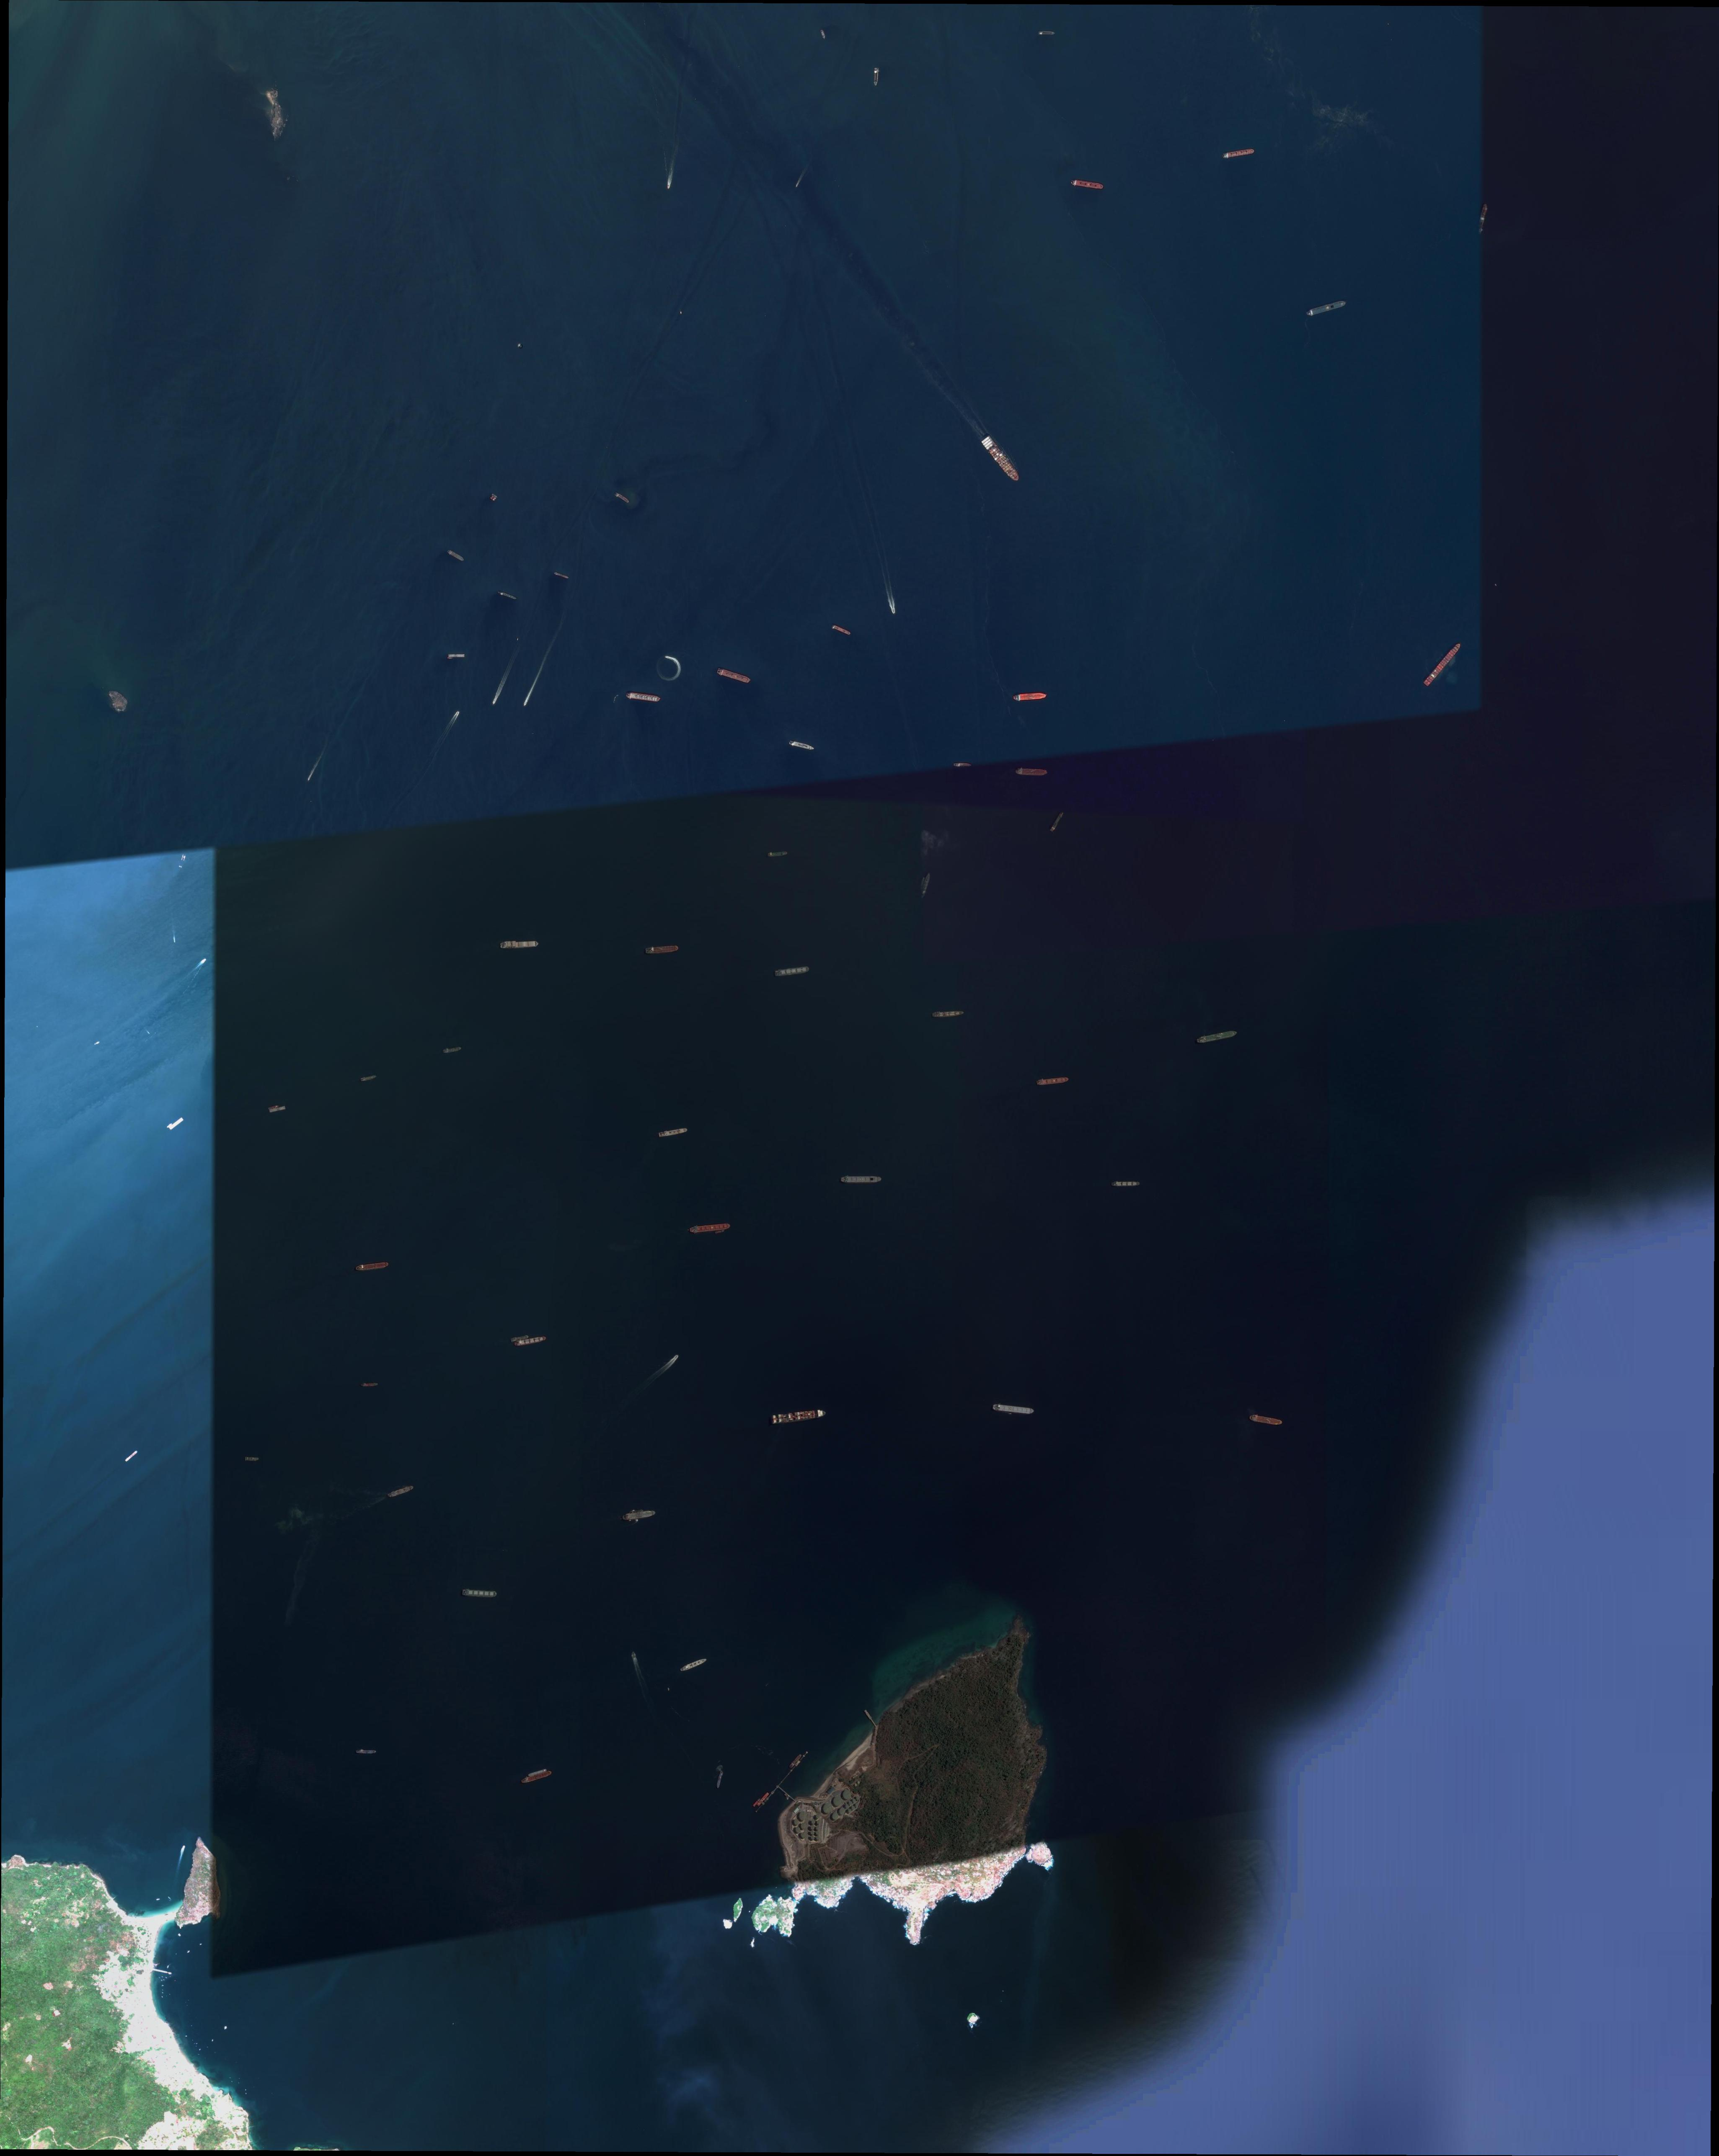harbor: (756, 1751, 828, 1826), (863, 1709, 873, 1720)
ship: (980, 434, 1022, 483), (1423, 642, 1463, 687), (771, 1410, 826, 1425), (1306, 300, 1348, 318), (1196, 1029, 1238, 1046), (716, 667, 752, 684), (993, 1404, 1035, 1416), (1248, 1413, 1284, 1427), (690, 1223, 731, 1234), (774, 965, 810, 978), (521, 1770, 552, 1784), (1222, 147, 1256, 160), (1070, 178, 1105, 190), (680, 1658, 707, 1673), (622, 1510, 657, 1522), (387, 1484, 414, 1499), (626, 692, 661, 703), (1013, 692, 1047, 703), (644, 945, 680, 955), (461, 1589, 497, 1599), (355, 1261, 389, 1271), (840, 1176, 882, 1184), (515, 1335, 547, 1346), (500, 940, 538, 949), (1477, 203, 1488, 234), (1037, 1077, 1070, 1087), (788, 739, 815, 751), (658, 1127, 688, 1138), (1049, 812, 1064, 833), (1016, 768, 1048, 777), (931, 1010, 965, 1018), (921, 873, 932, 896), (788, 1753, 803, 1769), (447, 550, 465, 562), (832, 625, 852, 636), (168, 1117, 184, 1131), (498, 591, 518, 601), (757, 1792, 770, 1807), (124, 1450, 139, 1463), (1111, 1181, 1140, 1187), (528, 1769, 548, 1777), (617, 493, 631, 504), (442, 1046, 462, 1054), (768, 850, 788, 858), (716, 1770, 724, 1789), (511, 1335, 529, 1343), (269, 1106, 286, 1114), (360, 1075, 376, 1082), (873, 67, 879, 86), (554, 572, 569, 579), (360, 1382, 379, 1387), (953, 762, 972, 767), (356, 1750, 376, 1754), (245, 1456, 259, 1461), (753, 1798, 761, 1808), (1038, 31, 1056, 35), (448, 654, 465, 658), (820, 30, 827, 39), (268, 1105, 279, 1110), (199, 958, 207, 966), (631, 1651, 637, 1660), (672, 1354, 680, 1361), (492, 698, 497, 705), (891, 608, 896, 615), (523, 701, 528, 707), (94, 1041, 100, 1046), (795, 182, 800, 188), (146, 1030, 151, 1035), (667, 183, 671, 189), (307, 776, 311, 781), (456, 710, 460, 715), (173, 937, 176, 942)
